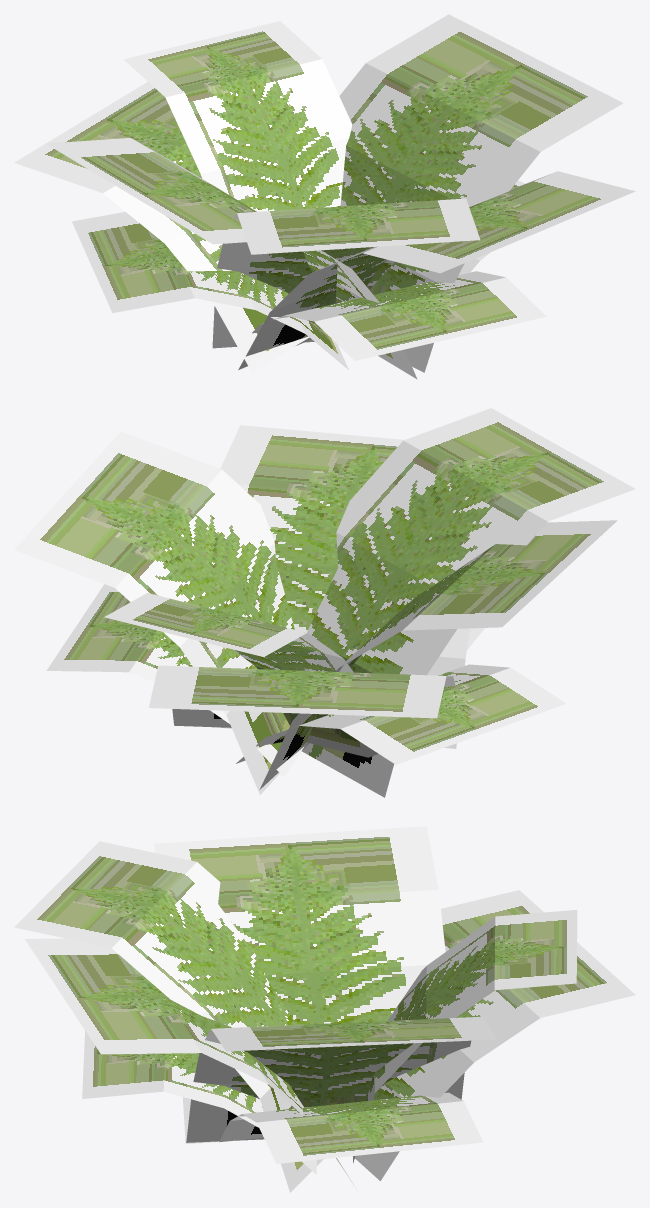
The model's file is fern.glb.
3 views of the same model, one above another, from view 1: azimuth 30°, elevation 25°; view 2: azimuth 150°, elevation 25°; view 3: azimuth 270°, elevation 25° (orthographic). The views are drawn at different scales.
Visible parts, largest first — view 1: Plane.004, Plane, Plane.006, Plane.003, Plane.001, Plane.005, Plane.007, Plane.002; view 2: Plane.006, Plane.004, Plane.003, Plane.001, Plane.002, Plane.007, Plane, Plane.008; view 3: Plane.002, Plane.006, Plane.004, Plane.003, Plane, Plane.001, Plane.008, Plane.005.
Boxes of the visible parts, x1,y1,x2,y2 form: Plane.004: (339, 14, 623, 372); Plane: (124, 21, 352, 211); Plane.006: (212, 198, 480, 348); Plane.003: (238, 171, 635, 369); Plane.001: (14, 82, 309, 371); Plane.005: (252, 271, 546, 360); Plane.007: (72, 212, 348, 369); Plane.002: (46, 137, 417, 379); Plane.006: (302, 408, 635, 797); Plane.004: (14, 431, 294, 794); Plane.003: (217, 425, 470, 748); Plane.001: (149, 665, 455, 727); Plane.002: (259, 520, 617, 789); Plane.007: (236, 664, 566, 764); Plane: (104, 593, 378, 757); Plane.008: (46, 584, 304, 776); Plane.002: (154, 826, 445, 1143); Plane.006: (14, 841, 323, 1192); Plane.004: (186, 1016, 497, 1142); Plane.003: (25, 938, 355, 1187); Plane: (353, 910, 577, 1163); Plane.001: (352, 890, 635, 1180); Plane.008: (219, 1092, 483, 1163); Plane.005: (82, 1030, 316, 1174).
Bounding box in the file's own units: 2.44 × 1.1 × 2.85.
Materials: 1 (1 with a texture image).
